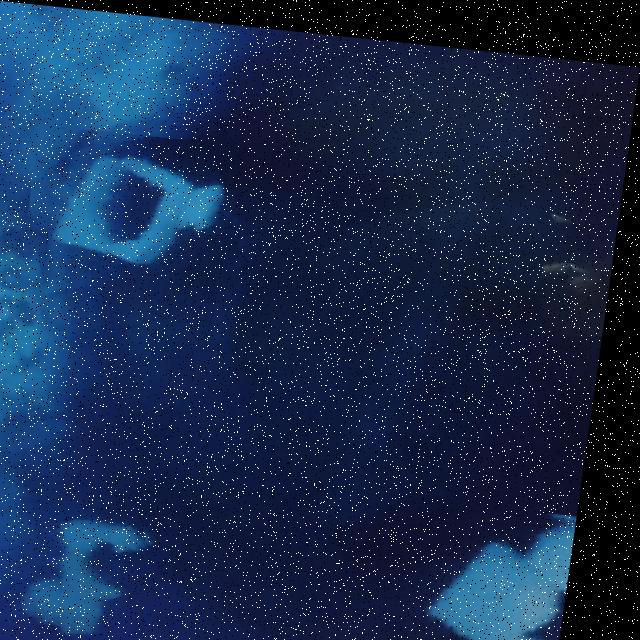thermocoal: (27, 123, 256, 294), (394, 487, 590, 640), (22, 493, 169, 634)
